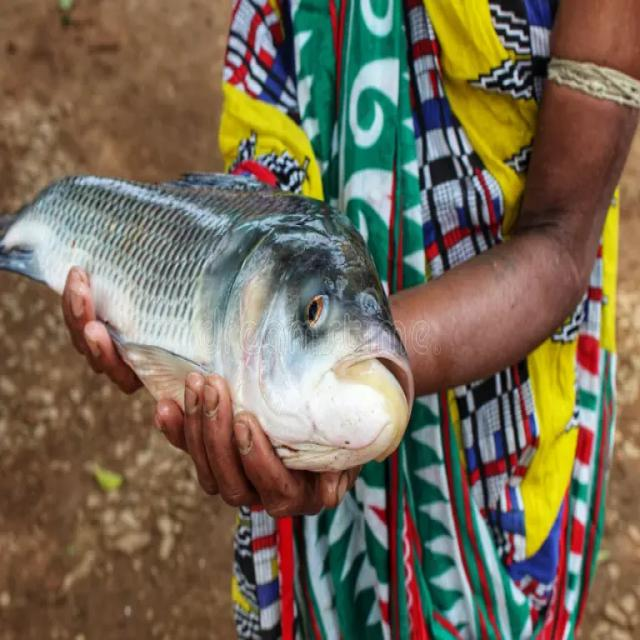Catla: (0, 172, 415, 474)
